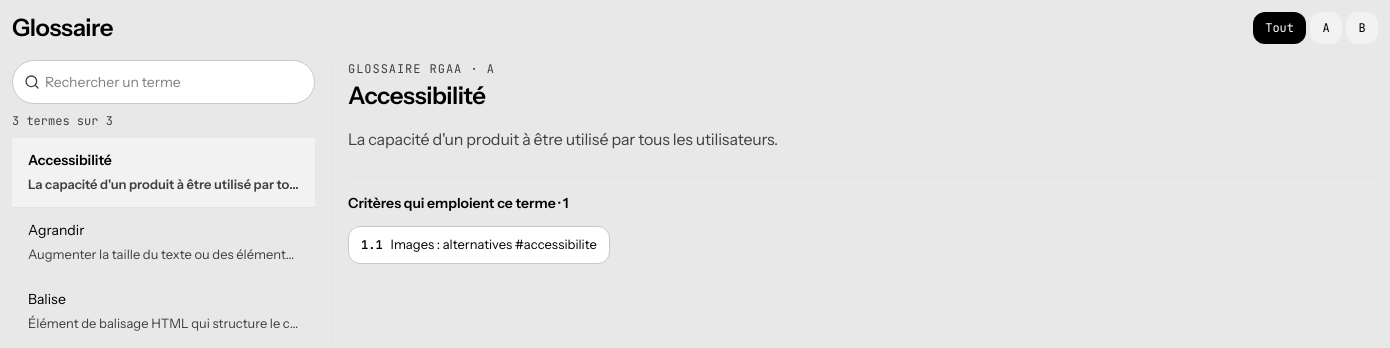
Test: GlossaryScreen › filtre les termes par recherche avec un délai de 200ms (débounce)
This screenshot has width=1390, height=348.
Taper la recherche « accessi » qui correspond à « Accessibilité »
Type "accessi" into the search field named "Rechercher un terme du glossaire".
click(164, 82); type("accessi")  # box top-left (12, 60), bottom-right (315, 104)
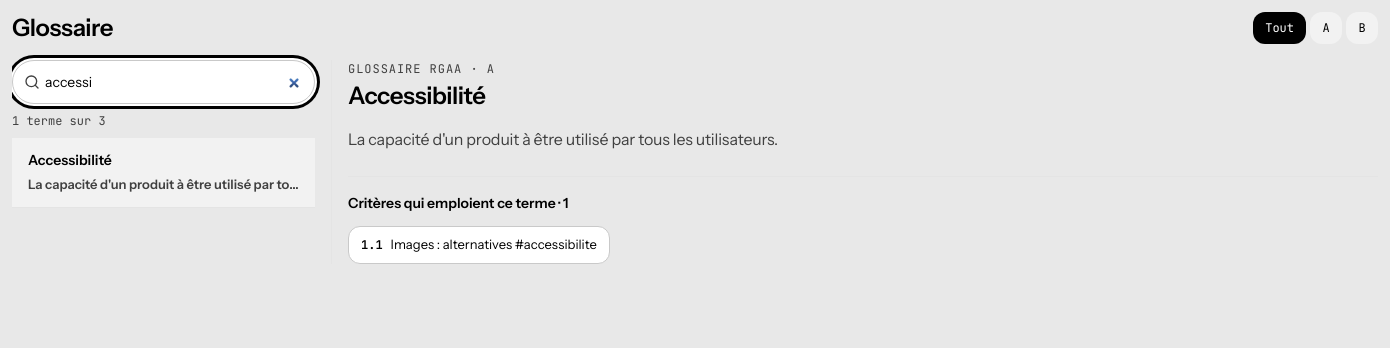
Now the text "1 terme sur 3" is shown, box top-left (12, 113), bottom-right (106, 129)
Now the button "Agrandir" is gone
